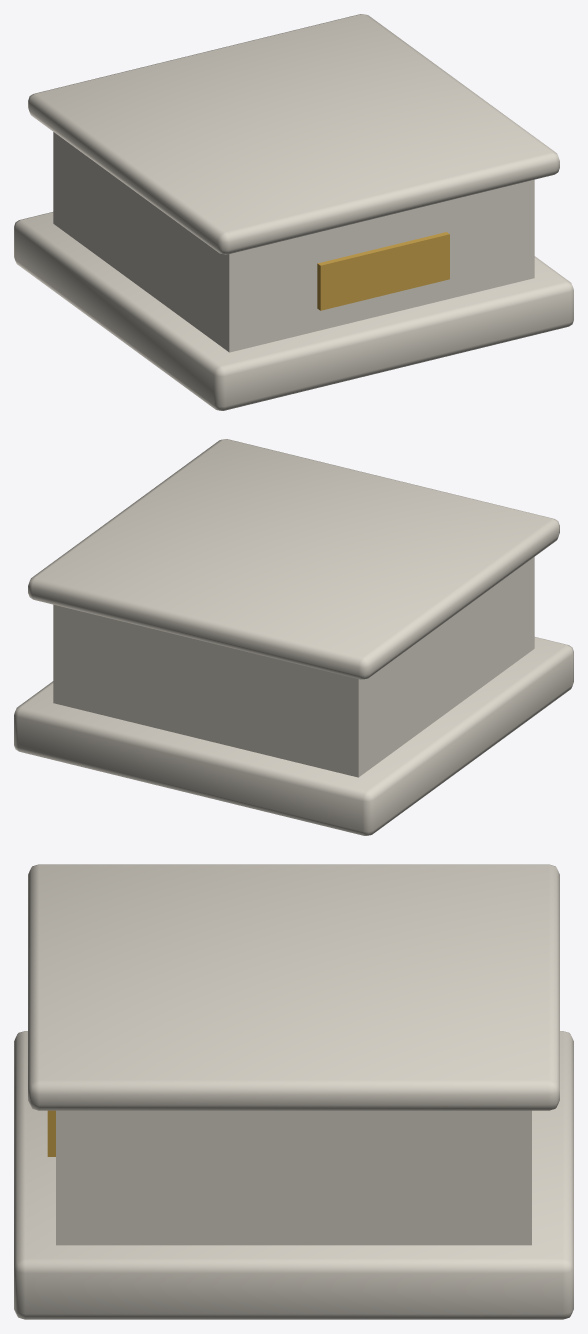
Rendered from pedestal.gltf.
3 renders of one model, top to bottom at view 1: azimuth 30°, elevation 25°; view 2: azimuth 150°, elevation 25°; view 3: azimuth 270°, elevation 25°, orthographic. The views are drawn at different scales.
Parts seen in each view (by area): view 1: pedestal_mesh; view 2: pedestal_mesh; view 3: pedestal_mesh.
Part boxes in pixels (x1,y1,x2,y2): pedestal_mesh: (14,14,573,410); pedestal_mesh: (14,439,573,835); pedestal_mesh: (14,864,573,1319).
Size of the model in its own units: 1 by 0.46 by 1.
